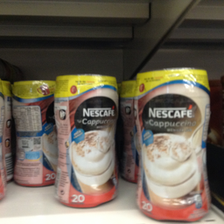coffee: (133, 68, 213, 223), (54, 75, 120, 210), (12, 79, 54, 187)
